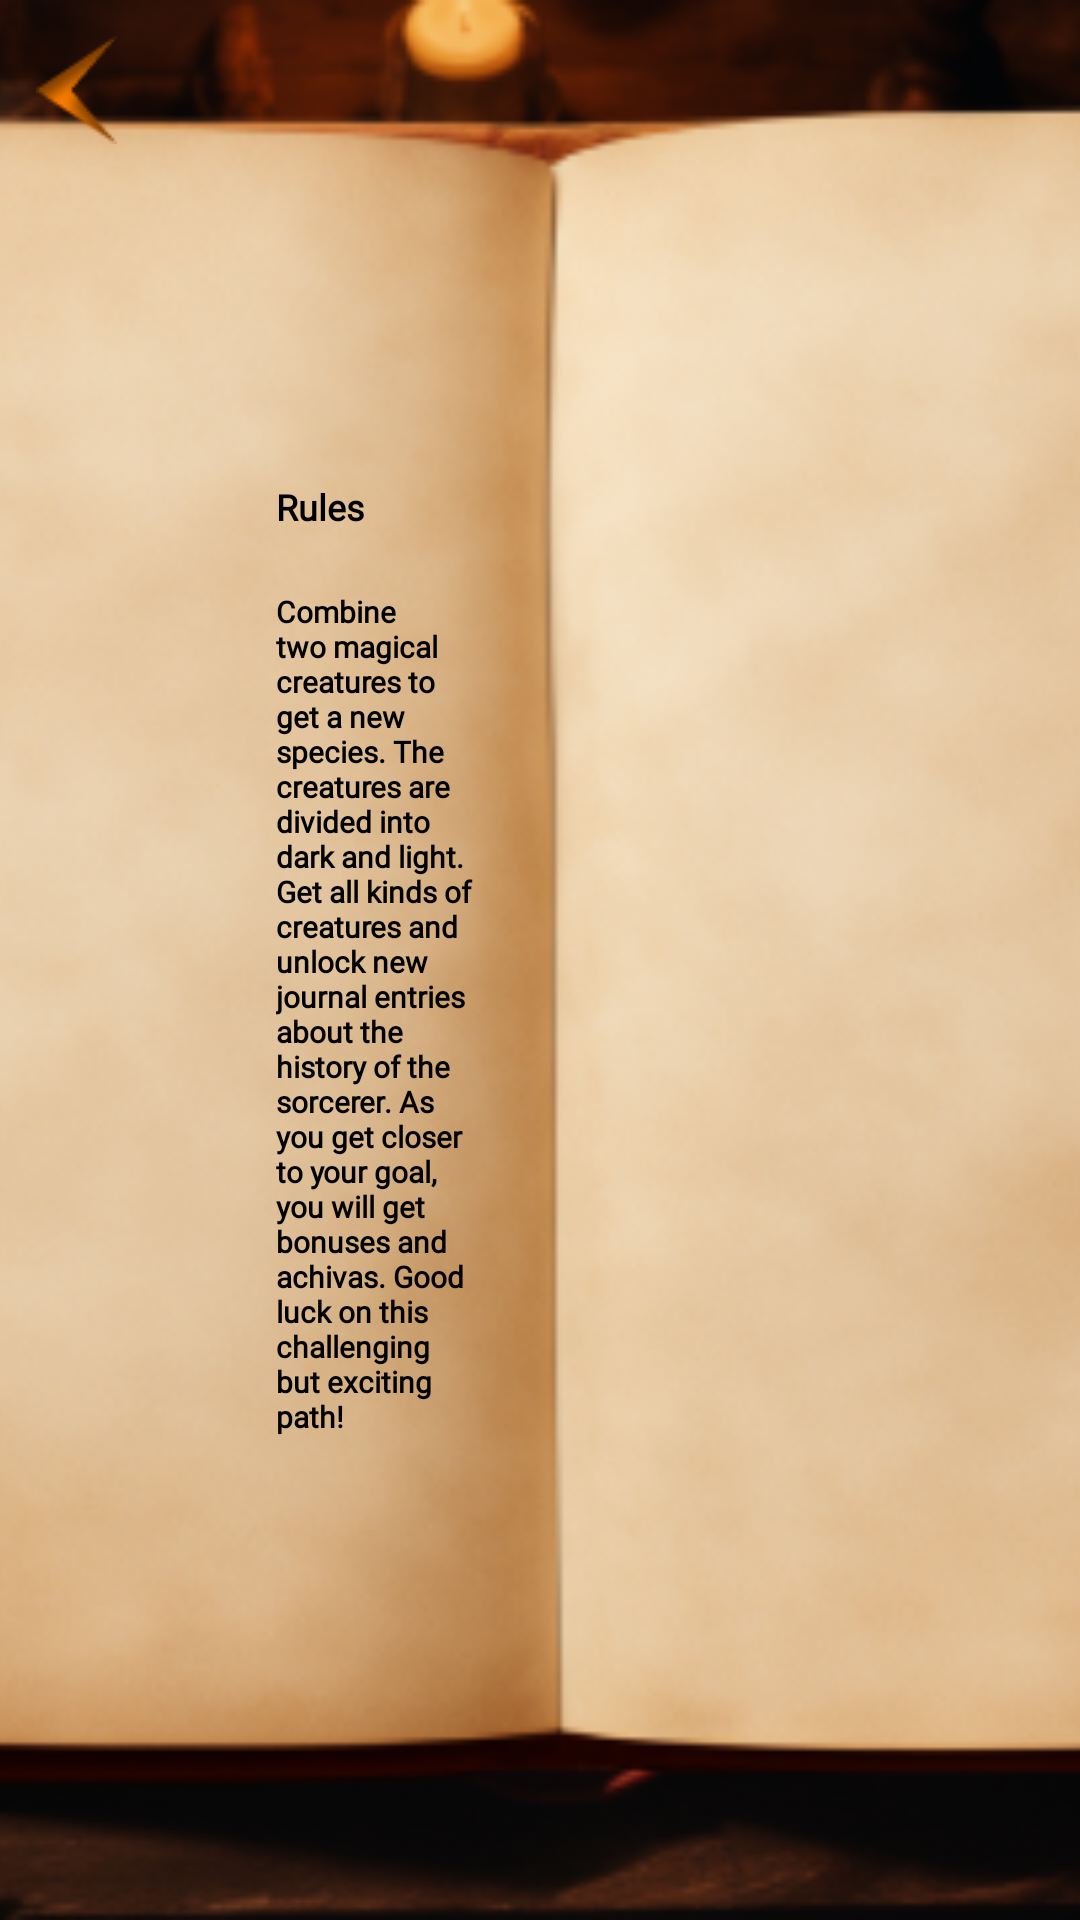

Icons on this 1080x1920 Android screen, each with the point to tap as (x=x, y=y):
back: (x=76, y=90)
